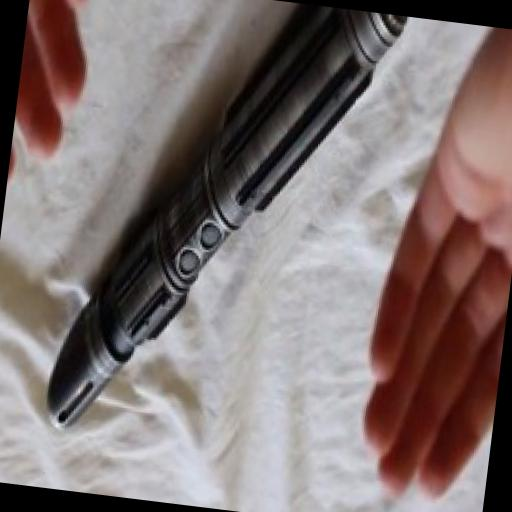lightsaber: (45, 0, 428, 467)
